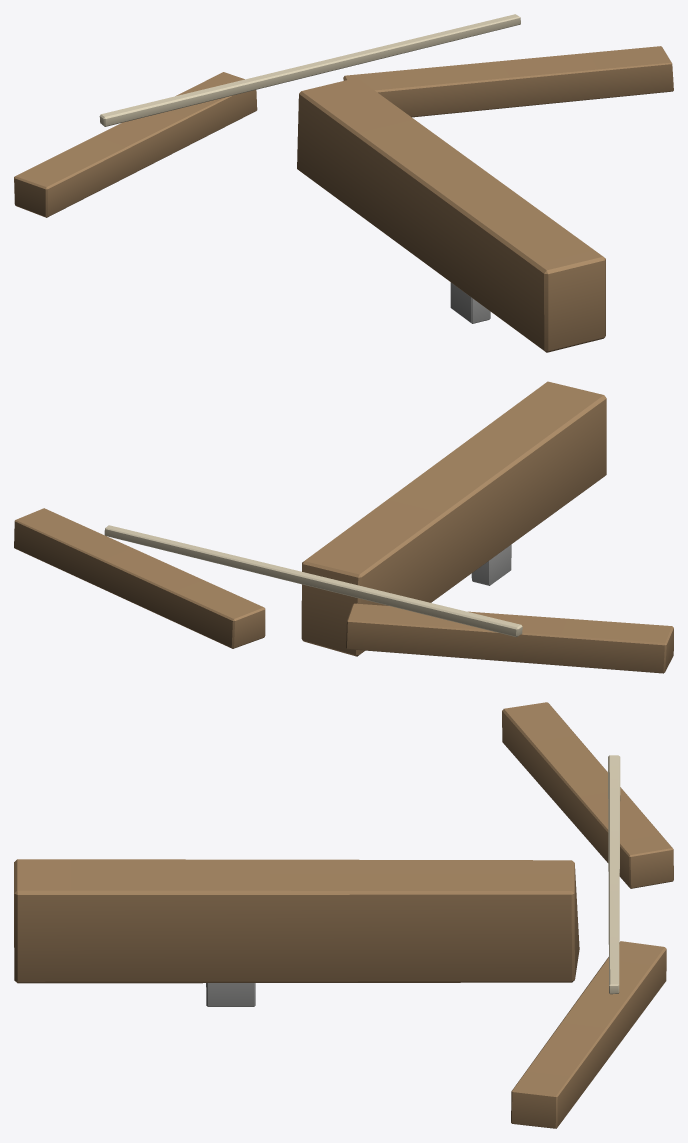
The model's file is crossbow.glb.
3 views of the same model, one above another, from view 1: azimuth 30°, elevation 25°; view 2: azimuth 150°, elevation 25°; view 3: azimuth 270°, elevation 25° (orthographic). The views are drawn at different scales.
Parts seen in each view (by area): view 1: Stock, ProdR, ProdL, String, Trigger; view 2: Stock, ProdL, ProdR, String, Trigger; view 3: Stock, ProdR, ProdL, String, Trigger.
Part boxes in pixels (x1,y1,x2,y2): Stock: [297, 78, 605, 352]; ProdR: [343, 46, 673, 117]; ProdL: [14, 72, 257, 217]; String: [99, 14, 520, 126]; Trigger: [450, 282, 490, 323]; Stock: [301, 381, 606, 656]; ProdL: [346, 603, 673, 673]; ProdR: [14, 508, 265, 648]; String: [104, 525, 522, 637]; Trigger: [471, 544, 511, 585]; Stock: [14, 859, 579, 983]; ProdR: [511, 941, 666, 1128]; ProdL: [502, 702, 673, 888]; String: [608, 755, 620, 994]; Trigger: [206, 983, 255, 1006].
Size of the model in its own units: 0.6658 by 0.1195 by 0.5167.
